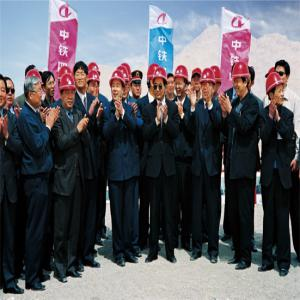none: (25, 75, 44, 110), (42, 70, 56, 101), (275, 59, 291, 86), (75, 64, 89, 91), (5, 75, 16, 109), (131, 73, 143, 99), (166, 73, 176, 98), (2, 72, 8, 111)
red: (267, 74, 286, 108), (233, 63, 250, 98), (60, 75, 76, 110), (153, 67, 169, 100), (202, 70, 216, 101), (175, 67, 189, 97), (111, 71, 125, 101), (118, 67, 130, 99), (211, 66, 224, 95), (88, 70, 101, 95), (191, 67, 203, 94), (147, 65, 159, 90)
